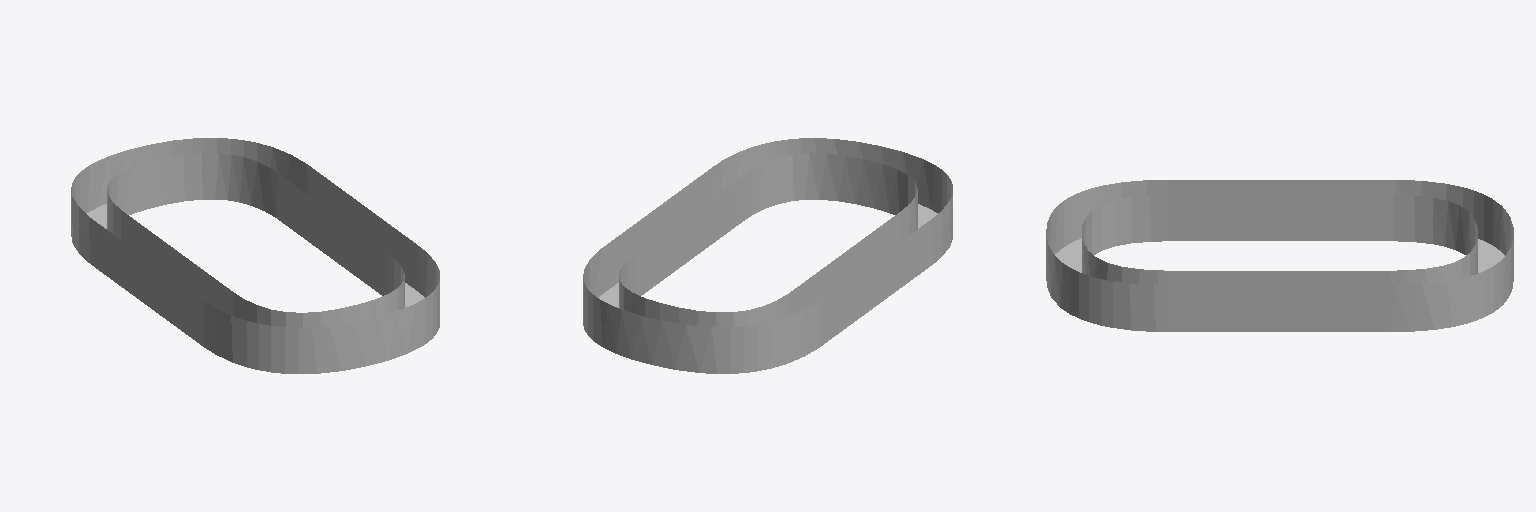
The model's file is courseCollision.obj.
3 renders of one model, left to right at view 1: azimuth 30°, elevation 25°; view 2: azimuth 150°, elevation 25°; view 3: azimuth 270°, elevation 25°, orthographic.
Visible parts, largest first — view 1: Judgement_Cube.009; view 2: Judgement_Cube.009; view 3: Judgement_Cube.009.
Part boxes in pixels (x1,y1,x2,y2): Judgement_Cube.009: (71,138,439,373); Judgement_Cube.009: (583,138,952,373); Judgement_Cube.009: (1046,180,1513,331).
Bounding box in the file's own units: 341 × 69.73 × 635.